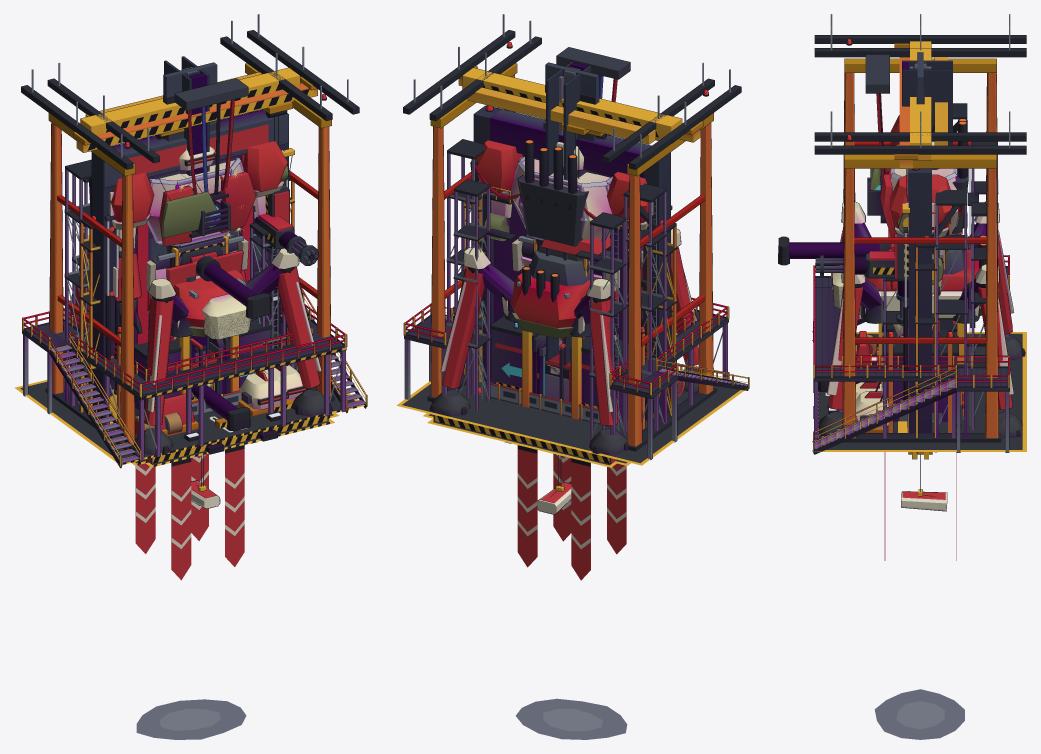
The model's file is fps-kit-foundry.glb.
The picture shows the model from 3 angles, left to right: view 1: azimuth 30°, elevation 25°; view 2: azimuth 150°, elevation 25°; view 3: azimuth 270°, elevation 25°; orthographic projection.
Parts seen in each view (by area): view 1: KIT_FOUNDRY_Landmark_Bay_Frame, KIT_FOUNDRY_Landmark_Bay_ArmourDeck, KIT_FOUNDRY_Landmark_Bay_Armour, KIT_FOUNDRY_Landmark_LaunchDoor1, KIT_FOUNDRY_Landmark_Strider_Legs, KIT_FOUNDRY_Landmark_Bay_Strider, KIT_FOUNDRY_Landmark_Titan_Torso, KIT_FOUNDRY_CeilBay_Banner, KIT_FOUNDRY_Landmark_Strider_Hull, KIT_FOUNDRY_CeilBay, KIT_FOUNDRY_Landmark_Bay_StriderLaunch, KIT_FOUNDRY_Landmark_Titan_Legs (+11 smaller); view 2: KIT_FOUNDRY_Landmark_Bay_Frame, KIT_FOUNDRY_Landmark_Bay_Armour, KIT_FOUNDRY_Landmark_Bay_Strider, KIT_FOUNDRY_Landmark_Strider_Legs, KIT_FOUNDRY_Landmark_LaunchDoor1, KIT_FOUNDRY_Landmark_Titan_Torso, KIT_FOUNDRY_Landmark_Bay_ArmourDeck, KIT_FOUNDRY_CeilBay_Banner, KIT_FOUNDRY_Landmark_Strider_Hull, KIT_FOUNDRY_Hatch, KIT_FOUNDRY_CeilBay, KIT_FOUNDRY_Line_Feed (+9 smaller); view 3: KIT_FOUNDRY_Landmark_Bay_Frame, KIT_FOUNDRY_Landmark_Bay_Armour, KIT_FOUNDRY_Landmark_Bay_ArmourDeck, KIT_FOUNDRY_Landmark_Bay_Strider, KIT_FOUNDRY_Landmark_Strider_Legs, KIT_FOUNDRY_Landmark_LaunchDoor1, KIT_FOUNDRY_Landmark_Strider_Hull, KIT_FOUNDRY_Landmark_Titan_Torso, KIT_FOUNDRY_CeilBay, KIT_FOUNDRY_Hatch, KIT_FOUNDRY_Landmark_Bay_Launch, KIT_FOUNDRY_Landmark_Titan_ArmGun (+4 smaller).
Boxes of the visible parts, x1=… form: KIT_FOUNDRY_Landmark_Bay_Frame: x1=45, y1=63, x2=334, y2=449; KIT_FOUNDRY_Landmark_Bay_ArmourDeck: x1=22, y1=287, x2=367, y2=468; KIT_FOUNDRY_Landmark_Bay_Armour: x1=14, y1=14, x2=364, y2=464; KIT_FOUNDRY_Landmark_LaunchDoor1: x1=91, y1=109, x2=290, y2=423; KIT_FOUNDRY_Landmark_Strider_Legs: x1=63, y1=228, x2=332, y2=454; KIT_FOUNDRY_Landmark_Bay_Strider: x1=47, y1=20, x2=334, y2=457; KIT_FOUNDRY_Landmark_Titan_Torso: x1=91, y1=136, x2=287, y2=253; KIT_FOUNDRY_CeilBay_Banner: x1=135, y1=445, x2=244, y2=580; KIT_FOUNDRY_Landmark_Strider_Hull: x1=174, y1=254, x2=271, y2=339; KIT_FOUNDRY_CeilBay: x1=136, y1=699, x2=246, y2=739; KIT_FOUNDRY_Landmark_Bay_StriderLaunch: x1=87, y1=305, x2=334, y2=467; KIT_FOUNDRY_Landmark_Titan_Legs: x1=146, y1=238, x2=248, y2=341; KIT_FOUNDRY_Landmark_Bay_Frame: x1=427, y1=42, x2=716, y2=451; KIT_FOUNDRY_Landmark_Bay_Armour: x1=396, y1=14, x2=744, y2=465; KIT_FOUNDRY_Landmark_Bay_Strider: x1=429, y1=20, x2=714, y2=457; KIT_FOUNDRY_Landmark_Strider_Legs: x1=429, y1=229, x2=698, y2=455; KIT_FOUNDRY_Landmark_LaunchDoor1: x1=473, y1=105, x2=672, y2=421; KIT_FOUNDRY_Landmark_Titan_Torso: x1=475, y1=139, x2=653, y2=259; KIT_FOUNDRY_Landmark_Bay_ArmourDeck: x1=403, y1=297, x2=749, y2=459; KIT_FOUNDRY_CeilBay_Banner: x1=517, y1=445, x2=626, y2=580; KIT_FOUNDRY_Landmark_Strider_Hull: x1=501, y1=249, x2=594, y2=337; KIT_FOUNDRY_Hatch: x1=545, y1=61, x2=591, y2=401; KIT_FOUNDRY_CeilBay: x1=516, y1=698, x2=627, y2=739; KIT_FOUNDRY_Line_Feed: x1=490, y1=321, x2=627, y2=426; KIT_FOUNDRY_Landmark_Bay_Frame: x1=838, y1=39, x2=1001, y2=442; KIT_FOUNDRY_Landmark_Bay_Armour: x1=814, y1=14, x2=1026, y2=451; KIT_FOUNDRY_Landmark_Bay_ArmourDeck: x1=812, y1=255, x2=1009, y2=454; KIT_FOUNDRY_Landmark_Bay_Strider: x1=814, y1=27, x2=1026, y2=436; KIT_FOUNDRY_Landmark_Strider_Legs: x1=818, y1=201, x2=1025, y2=437; KIT_FOUNDRY_Landmark_LaunchDoor1: x1=898, y1=168, x2=931, y2=433; KIT_FOUNDRY_Landmark_Strider_Hull: x1=778, y1=234, x2=986, y2=319; KIT_FOUNDRY_Landmark_Titan_Torso: x1=867, y1=115, x2=968, y2=252; KIT_FOUNDRY_CeilBay: x1=874, y1=689, x2=964, y2=739; KIT_FOUNDRY_Hatch: x1=902, y1=60, x2=952, y2=331; KIT_FOUNDRY_Landmark_Bay_Launch: x1=872, y1=121, x2=962, y2=452; KIT_FOUNDRY_Landmark_Titan_ArmGun: x1=815, y1=251, x2=943, y2=284.
Size of the model in its own units: 24.07 by 60.43 by 20.95.
1 material, 1 textured.
